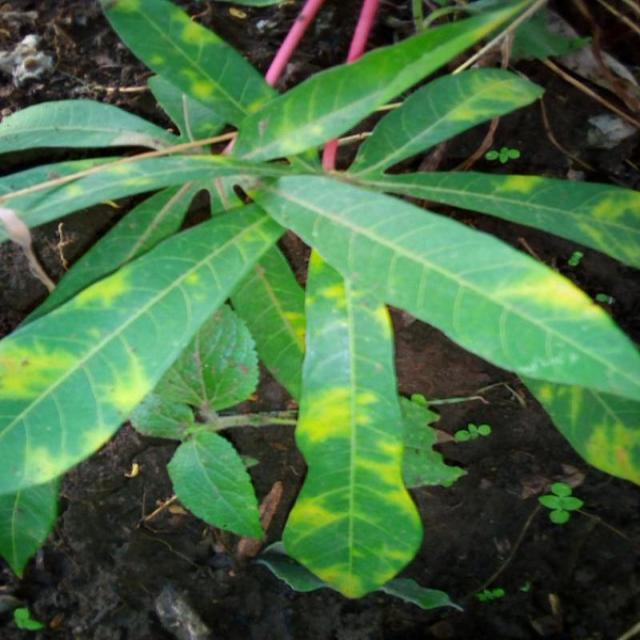cassava leaf: (0, 0, 639, 603), (0, 197, 286, 576), (280, 244, 424, 598)
